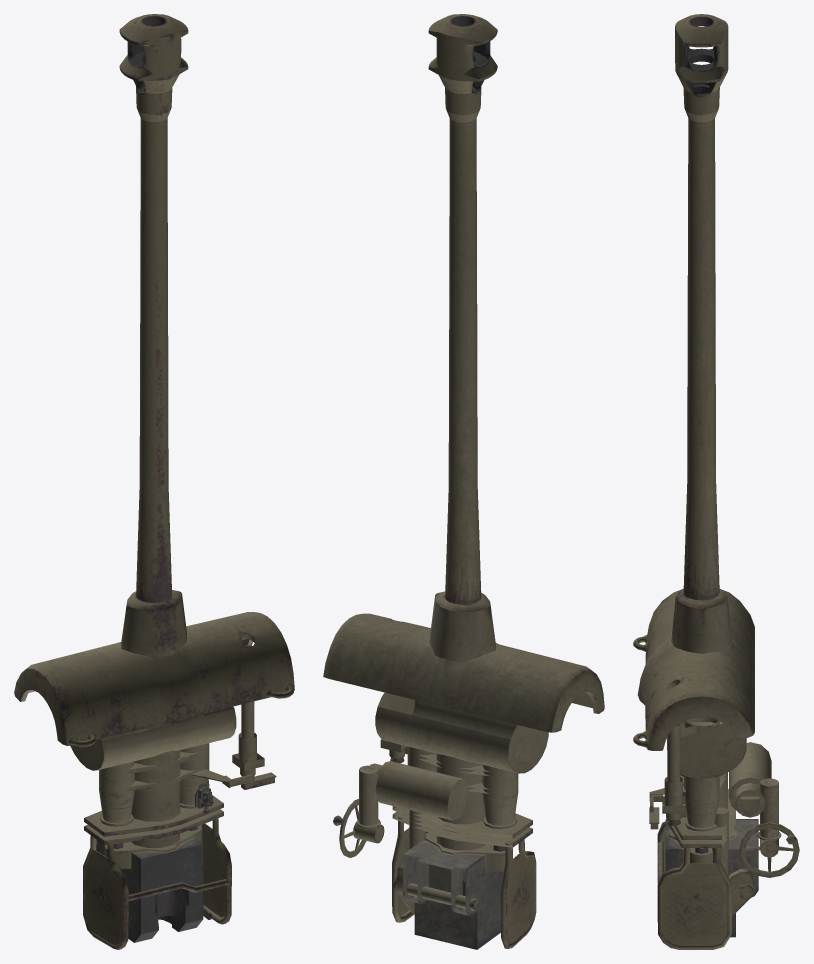
File: Gun_07.glb
3 renders of one model, left to right at view 1: azimuth 30°, elevation 25°; view 2: azimuth 150°, elevation 25°; view 3: azimuth 270°, elevation 25°, orthographic.
Parts seen in each view (by area): view 1: set_0_group_0; view 2: set_0_group_0; view 3: set_0_group_0.
Part boxes in pixels (left/top/right/bottom): set_0_group_0: left=14, top=14, right=294, bottom=949; set_0_group_0: left=323, top=14, right=604, bottom=949; set_0_group_0: left=633, top=14, right=799, bottom=949.
Size of the model in its own units: 1.22 by 4.54 by 0.7601.
1 material, 1 textured.
